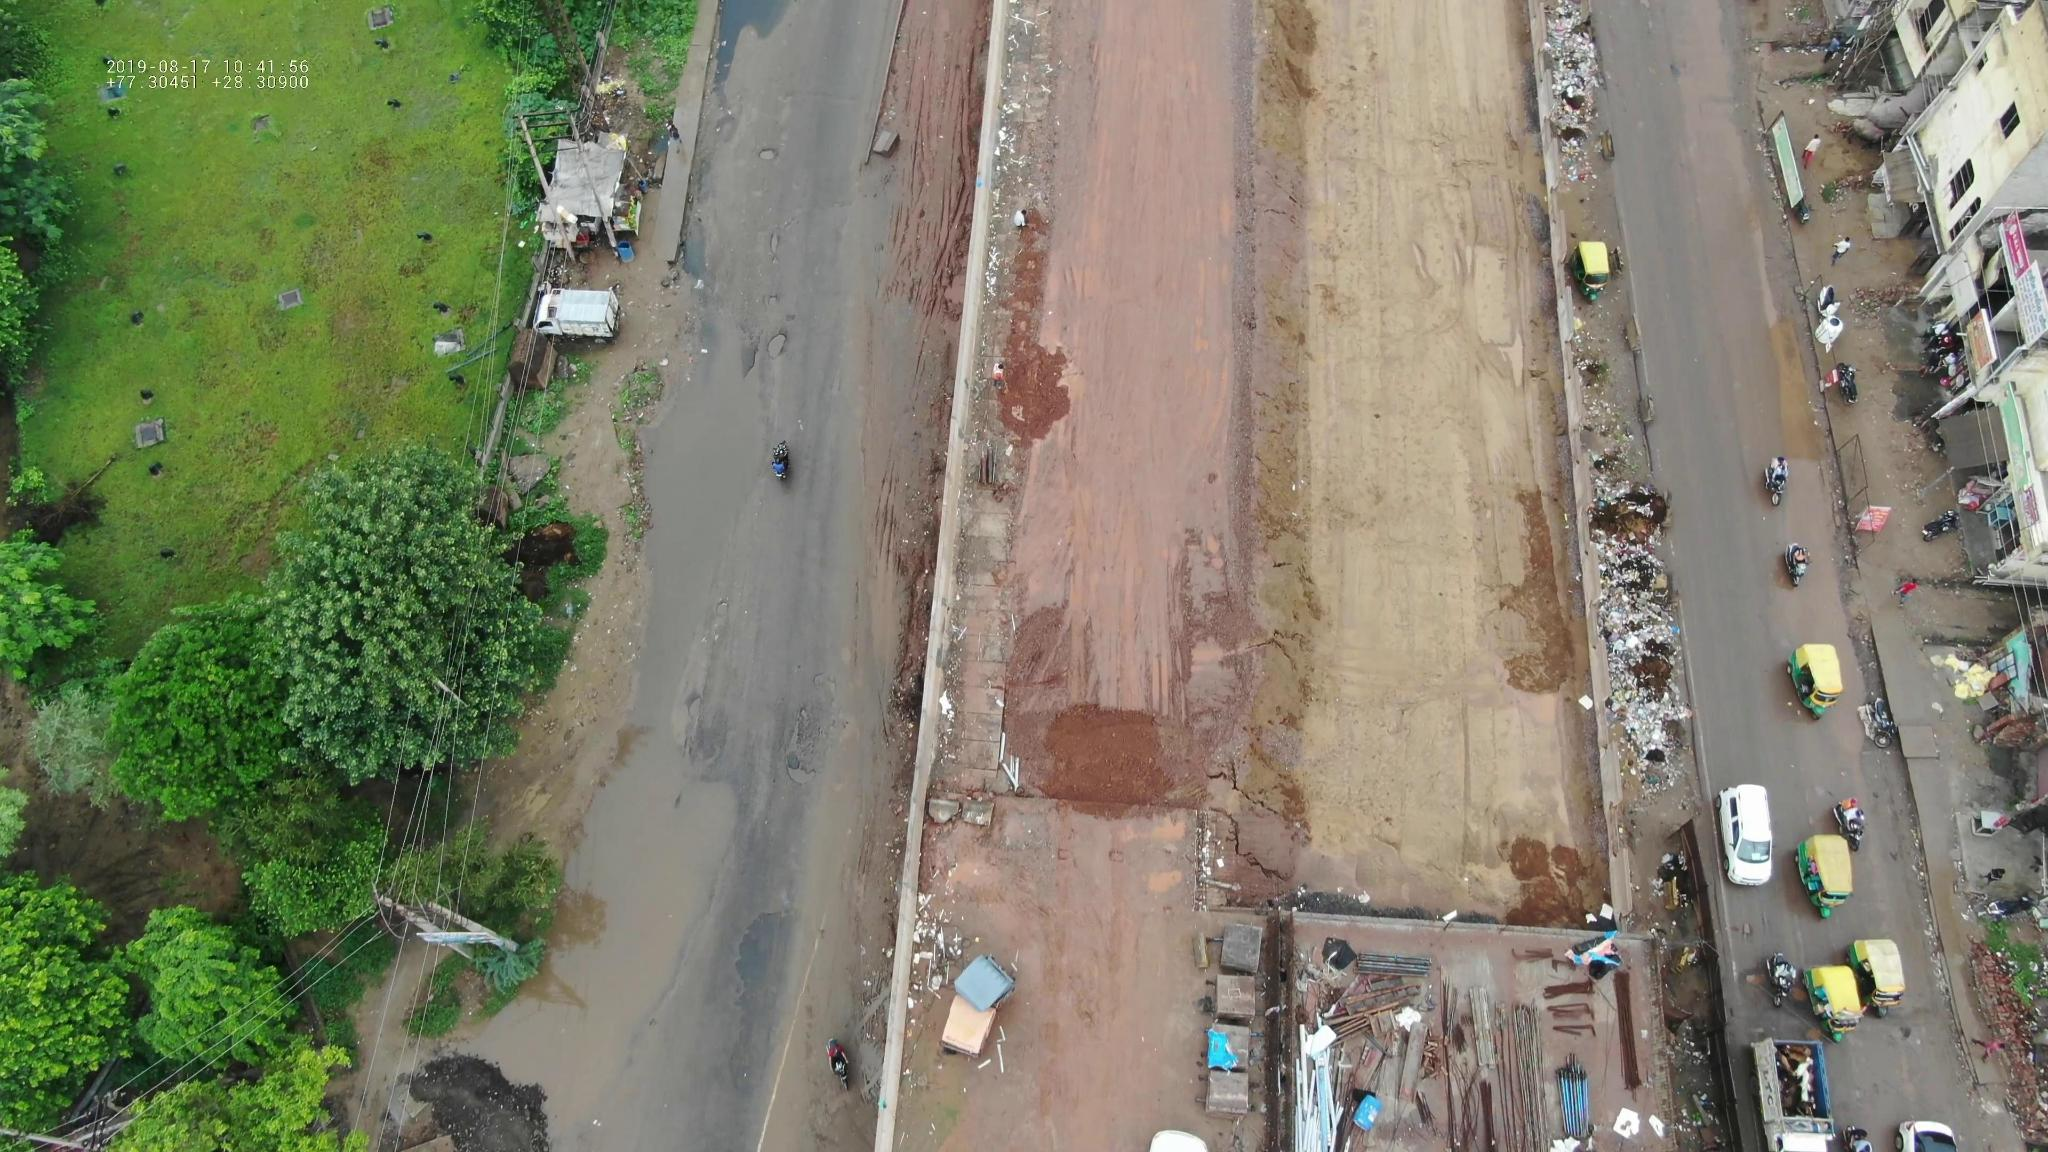Potholes: (730, 134, 800, 364), (651, 603, 747, 754), (750, 672, 858, 781)
